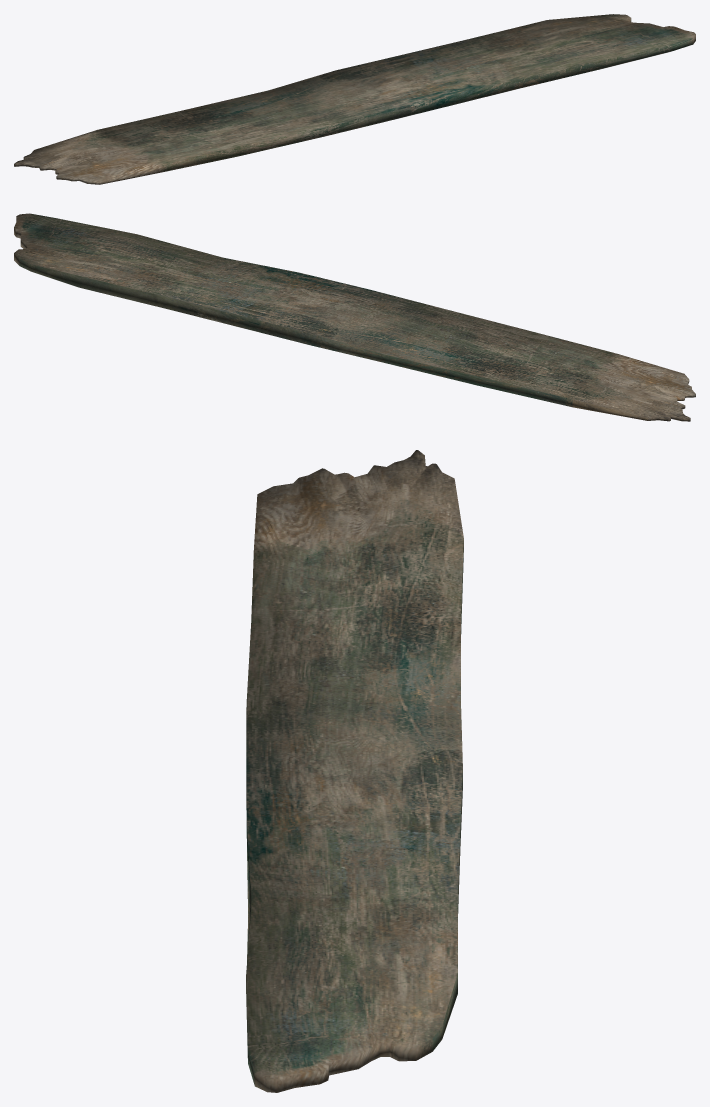
File: plank.glb
The picture shows the model from 3 angles, top to bottom: view 1: azimuth 30°, elevation 25°; view 2: azimuth 150°, elevation 25°; view 3: azimuth 270°, elevation 25°; orthographic projection. The views are drawn at different scales.
Visible parts, largest first — view 1: Plank_Broken_HP; view 2: Plank_Broken_HP; view 3: Plank_Broken_HP.
Part boxes in pixels (x1,y1,x2,y2): Plank_Broken_HP: [14, 14, 695, 184]; Plank_Broken_HP: [14, 213, 695, 421]; Plank_Broken_HP: [246, 450, 463, 1092].
Size of the model in its own units: 126 by 2 by 18.48.
1 material, 1 textured.
